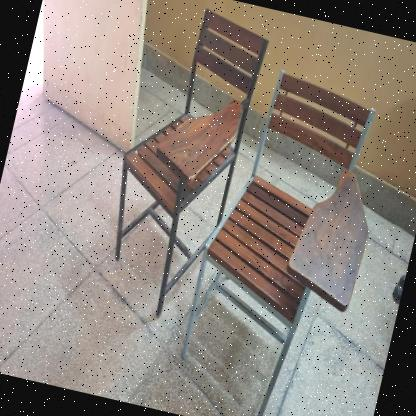chair: (159, 49, 412, 416), (70, 0, 282, 336)
